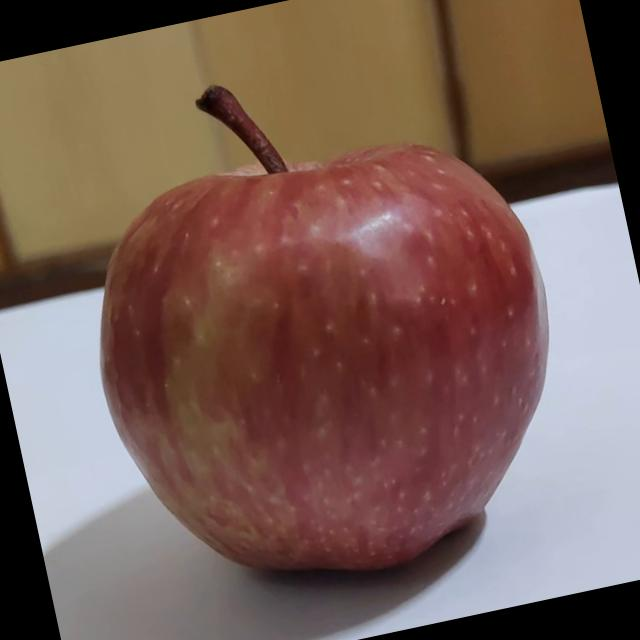apple: (42, 26, 602, 626)
